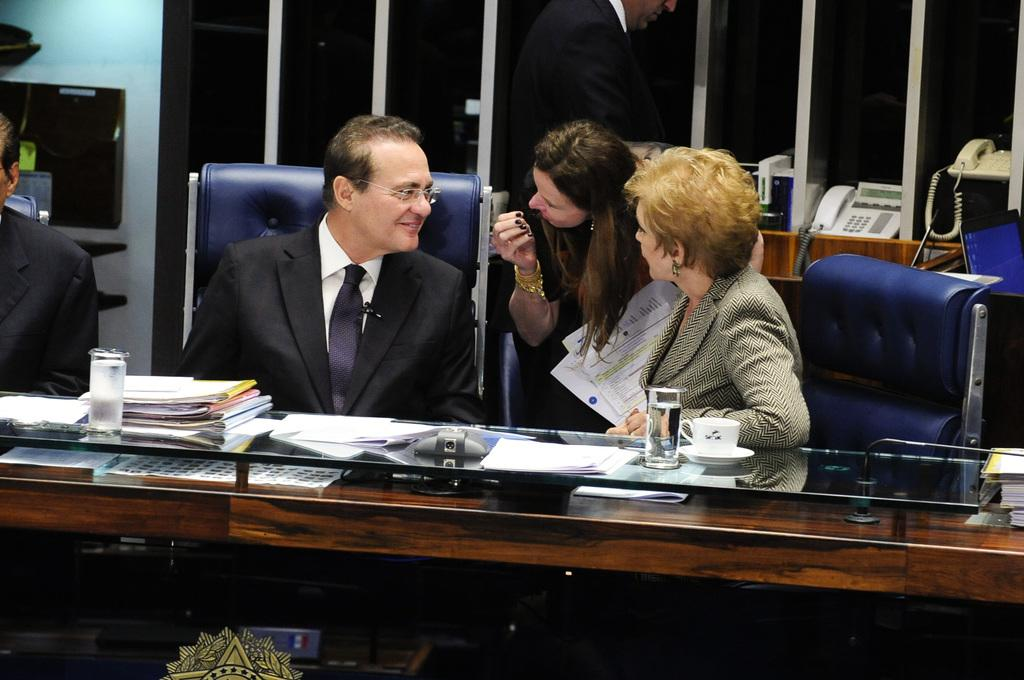no_helmet: (594, 189, 794, 304), (488, 192, 652, 288), (312, 182, 464, 284)
none: (178, 260, 505, 398), (633, 292, 821, 403)
